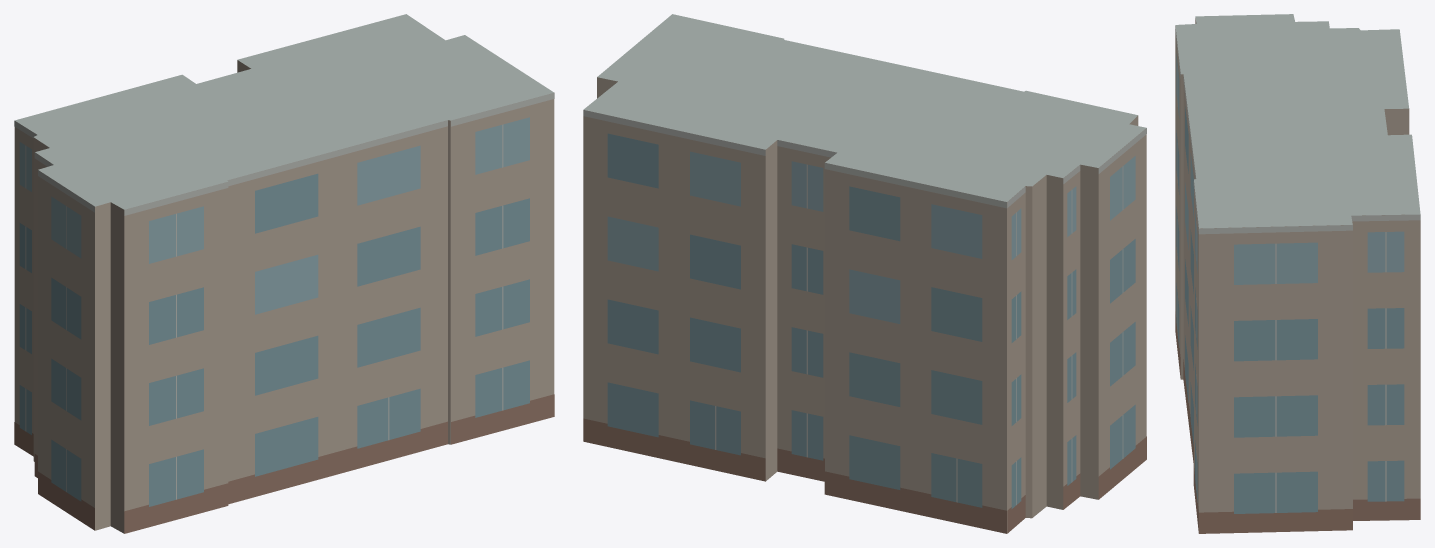
Rendered from survey-upis-32699067.glb.
3 views of the same model, side by side, from view 1: azimuth 30°, elevation 25°; view 2: azimuth 150°, elevation 25°; view 3: azimuth 270°, elevation 25° (orthographic). The views are drawn at different scales.
Visible parts, largest first — view 1: survey-upis-32699067.tmp; view 2: survey-upis-32699067.tmp; view 3: survey-upis-32699067.tmp.
Part boxes in pixels (x1=…): survey-upis-32699067.tmp: x1=14, y1=14, x2=554, y2=533; survey-upis-32699067.tmp: x1=583, y1=14, x2=1146, y2=533; survey-upis-32699067.tmp: x1=1175, y1=14, x2=1420, y2=533.
Bounding box in the file's own units: 19.29 × 12.8 × 9.33.
